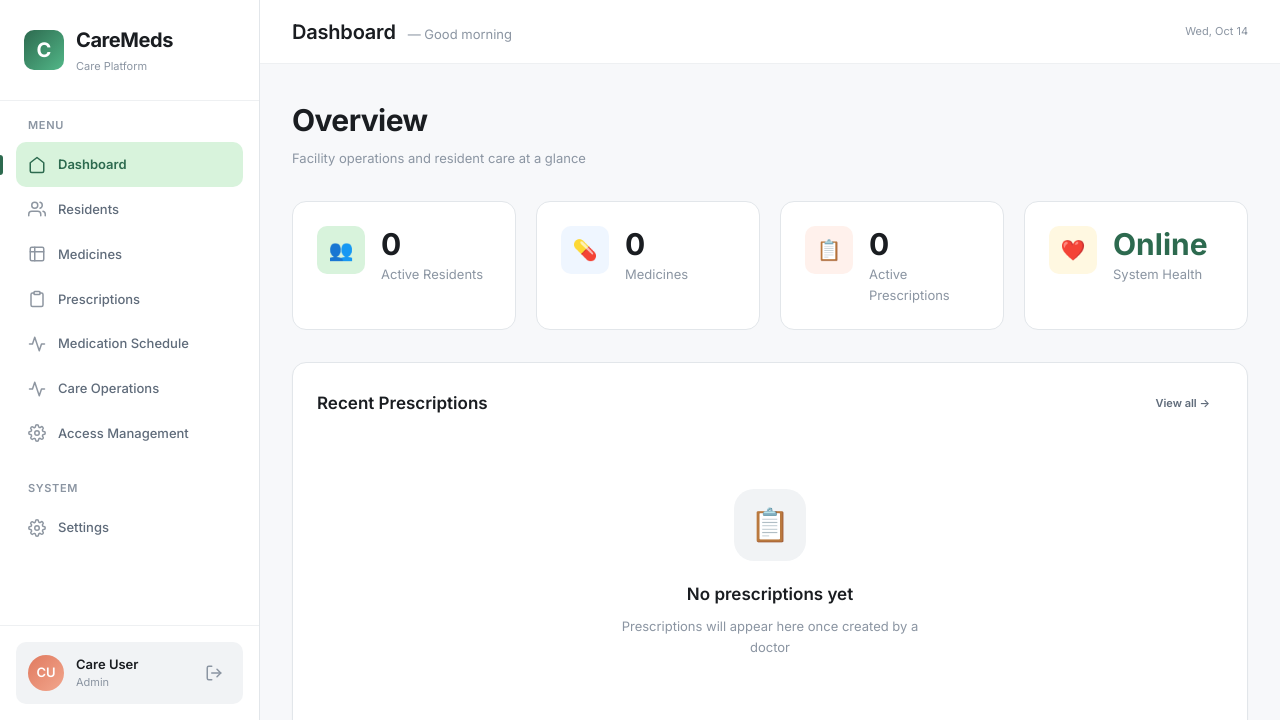
Scenario: CareMeds role-based application surfaces › gives administrators the account, consent, and assignment management surface
The width and height of the screenshot is (1280, 720).
Expected: the heading "Overview" is shown, [292, 102, 427, 138]
Click the button "Access Management" at (130, 433), box [16, 411, 243, 456]
(page scrolled)
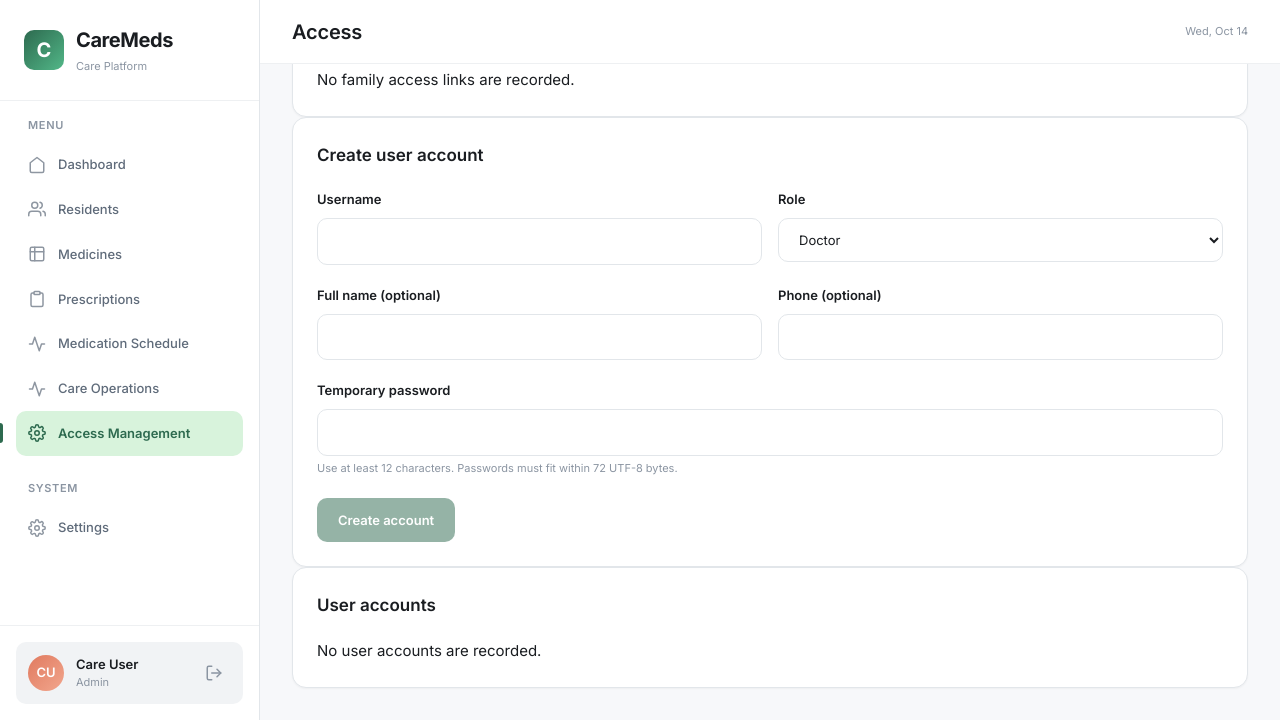
Expected: the heading "Family access and consent" is shown, [317, 21, 539, 48]
Expected: the heading "User accounts" is shown, [317, 592, 436, 619]
